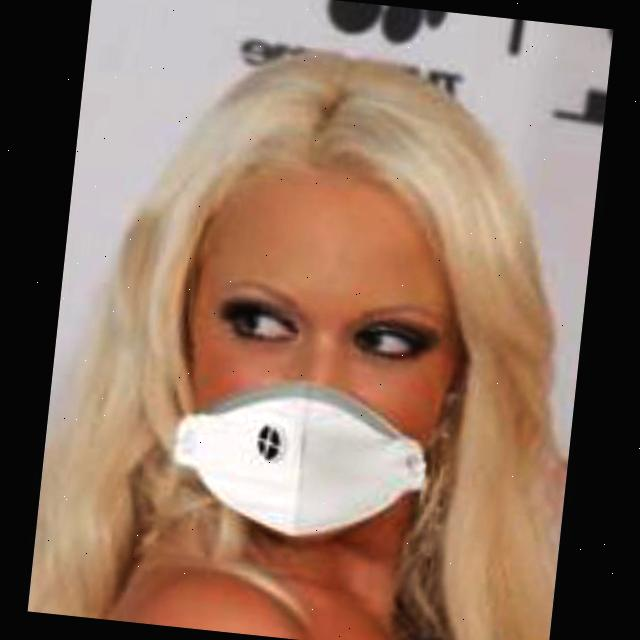suspicion: (152, 74, 500, 563)
